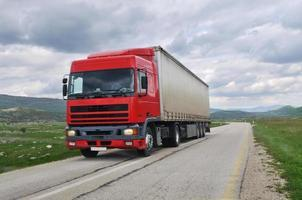vehicle: (63, 46, 211, 157)
